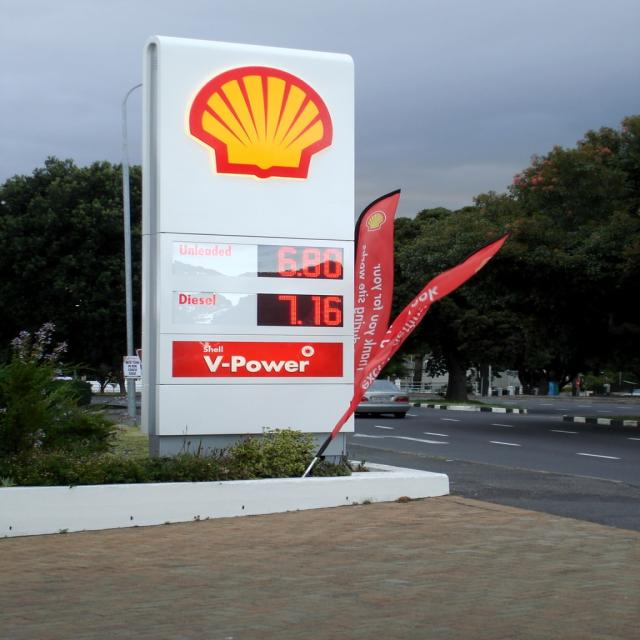shell: (187, 66, 336, 184), (363, 211, 390, 233)
